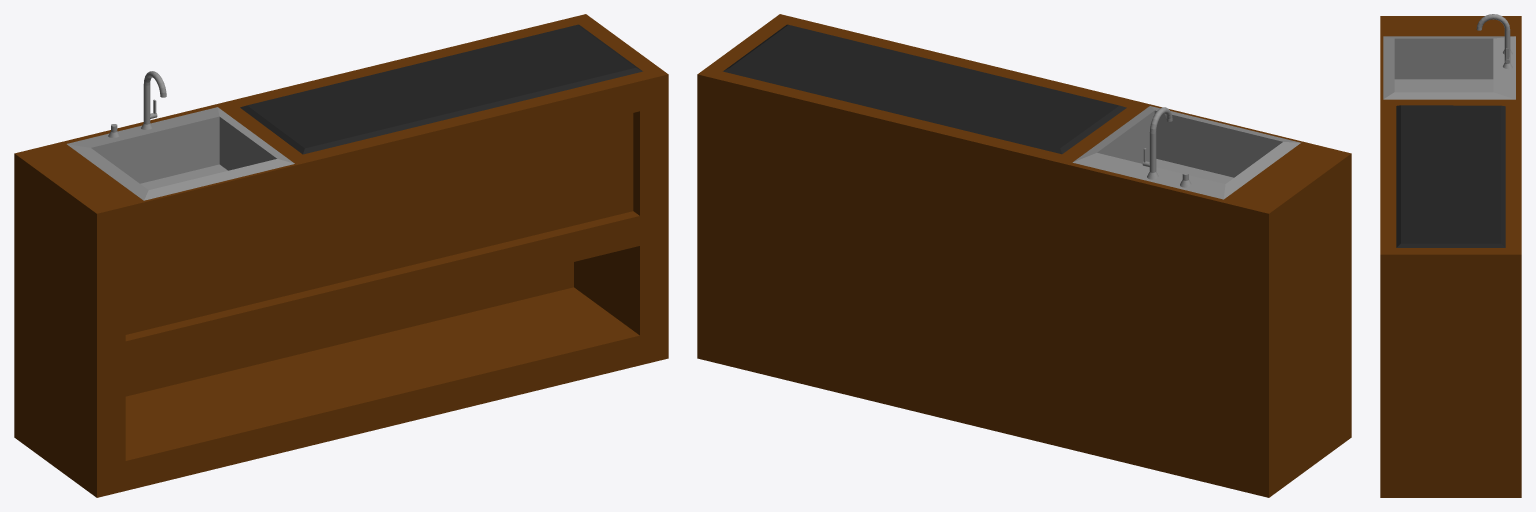
File: Bar_Counter.fbx
The picture shows the model from 3 angles, left to right: view 1: azimuth 30°, elevation 25°; view 2: azimuth 150°, elevation 25°; view 3: azimuth 270°, elevation 25°; orthographic projection. The views are drawn at different scales.
Parts seen in each view (by area): view 1: Cube; view 2: Cube; view 3: Cube.
Part boxes in pixels (left/top/right/bottom): Cube: left=14, top=14, right=668, bottom=497; Cube: left=697, top=14, right=1351, bottom=497; Cube: left=1380, top=14, right=1521, bottom=497.
Size of the model in its own units: 200 by 116 by 50.
